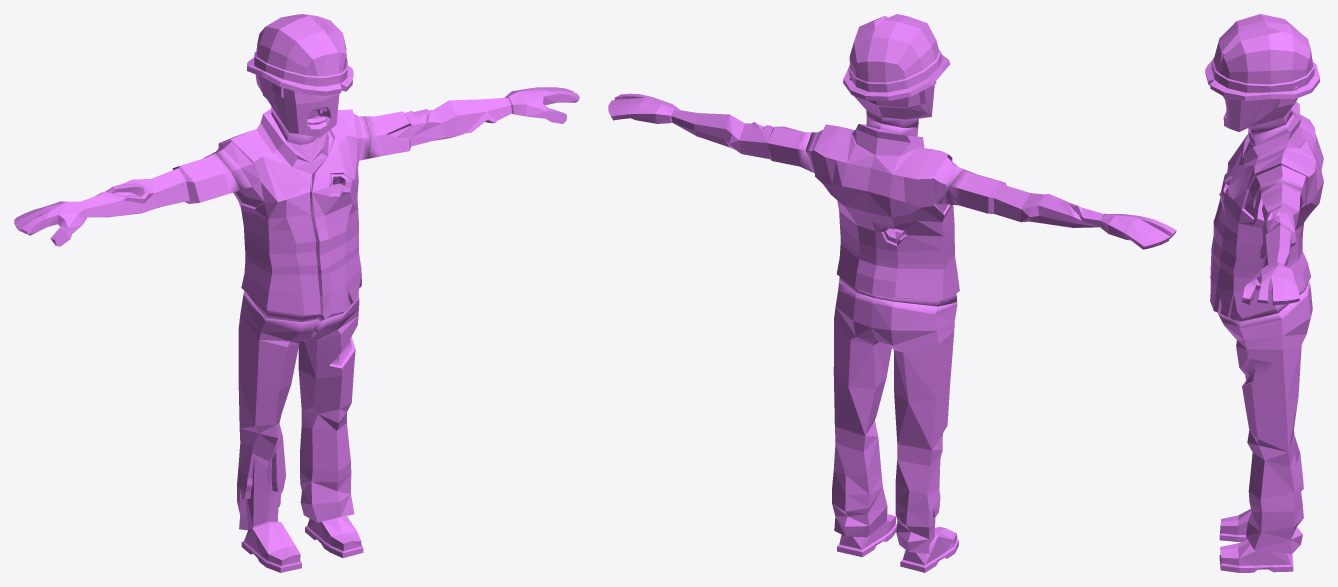
The model's file is FinalZombieRoadWorkerMale.fbx.
3 renders of one model, left to right at view 1: azimuth 30°, elevation 25°; view 2: azimuth 150°, elevation 25°; view 3: azimuth 270°, elevation 25°, orthographic.
Parts seen in each view (by area): view 1: Legs, Body, Head, RightArm, LeftArm; view 2: Legs, Body, Head, RightArm, LeftArm; view 3: Legs, Body, Head, LeftArm.
Part boxes in pixels (x1,y1,x2,y2): Legs: (237, 293, 363, 572); Body: (210, 108, 372, 322); Head: (247, 14, 353, 137); RightArm: (14, 153, 240, 246); LeftArm: (365, 87, 579, 158); Legs: (832, 282, 958, 572); Body: (805, 119, 964, 306); Head: (843, 14, 950, 127); RightArm: (942, 169, 1176, 249); LeftArm: (608, 93, 812, 172); Legs: (1218, 282, 1312, 572); Body: (1210, 109, 1323, 321); Head: (1205, 14, 1319, 135); LeftArm: (1241, 181, 1302, 305).
Bounding box in the file's own units: 205 × 186 × 37.86.
